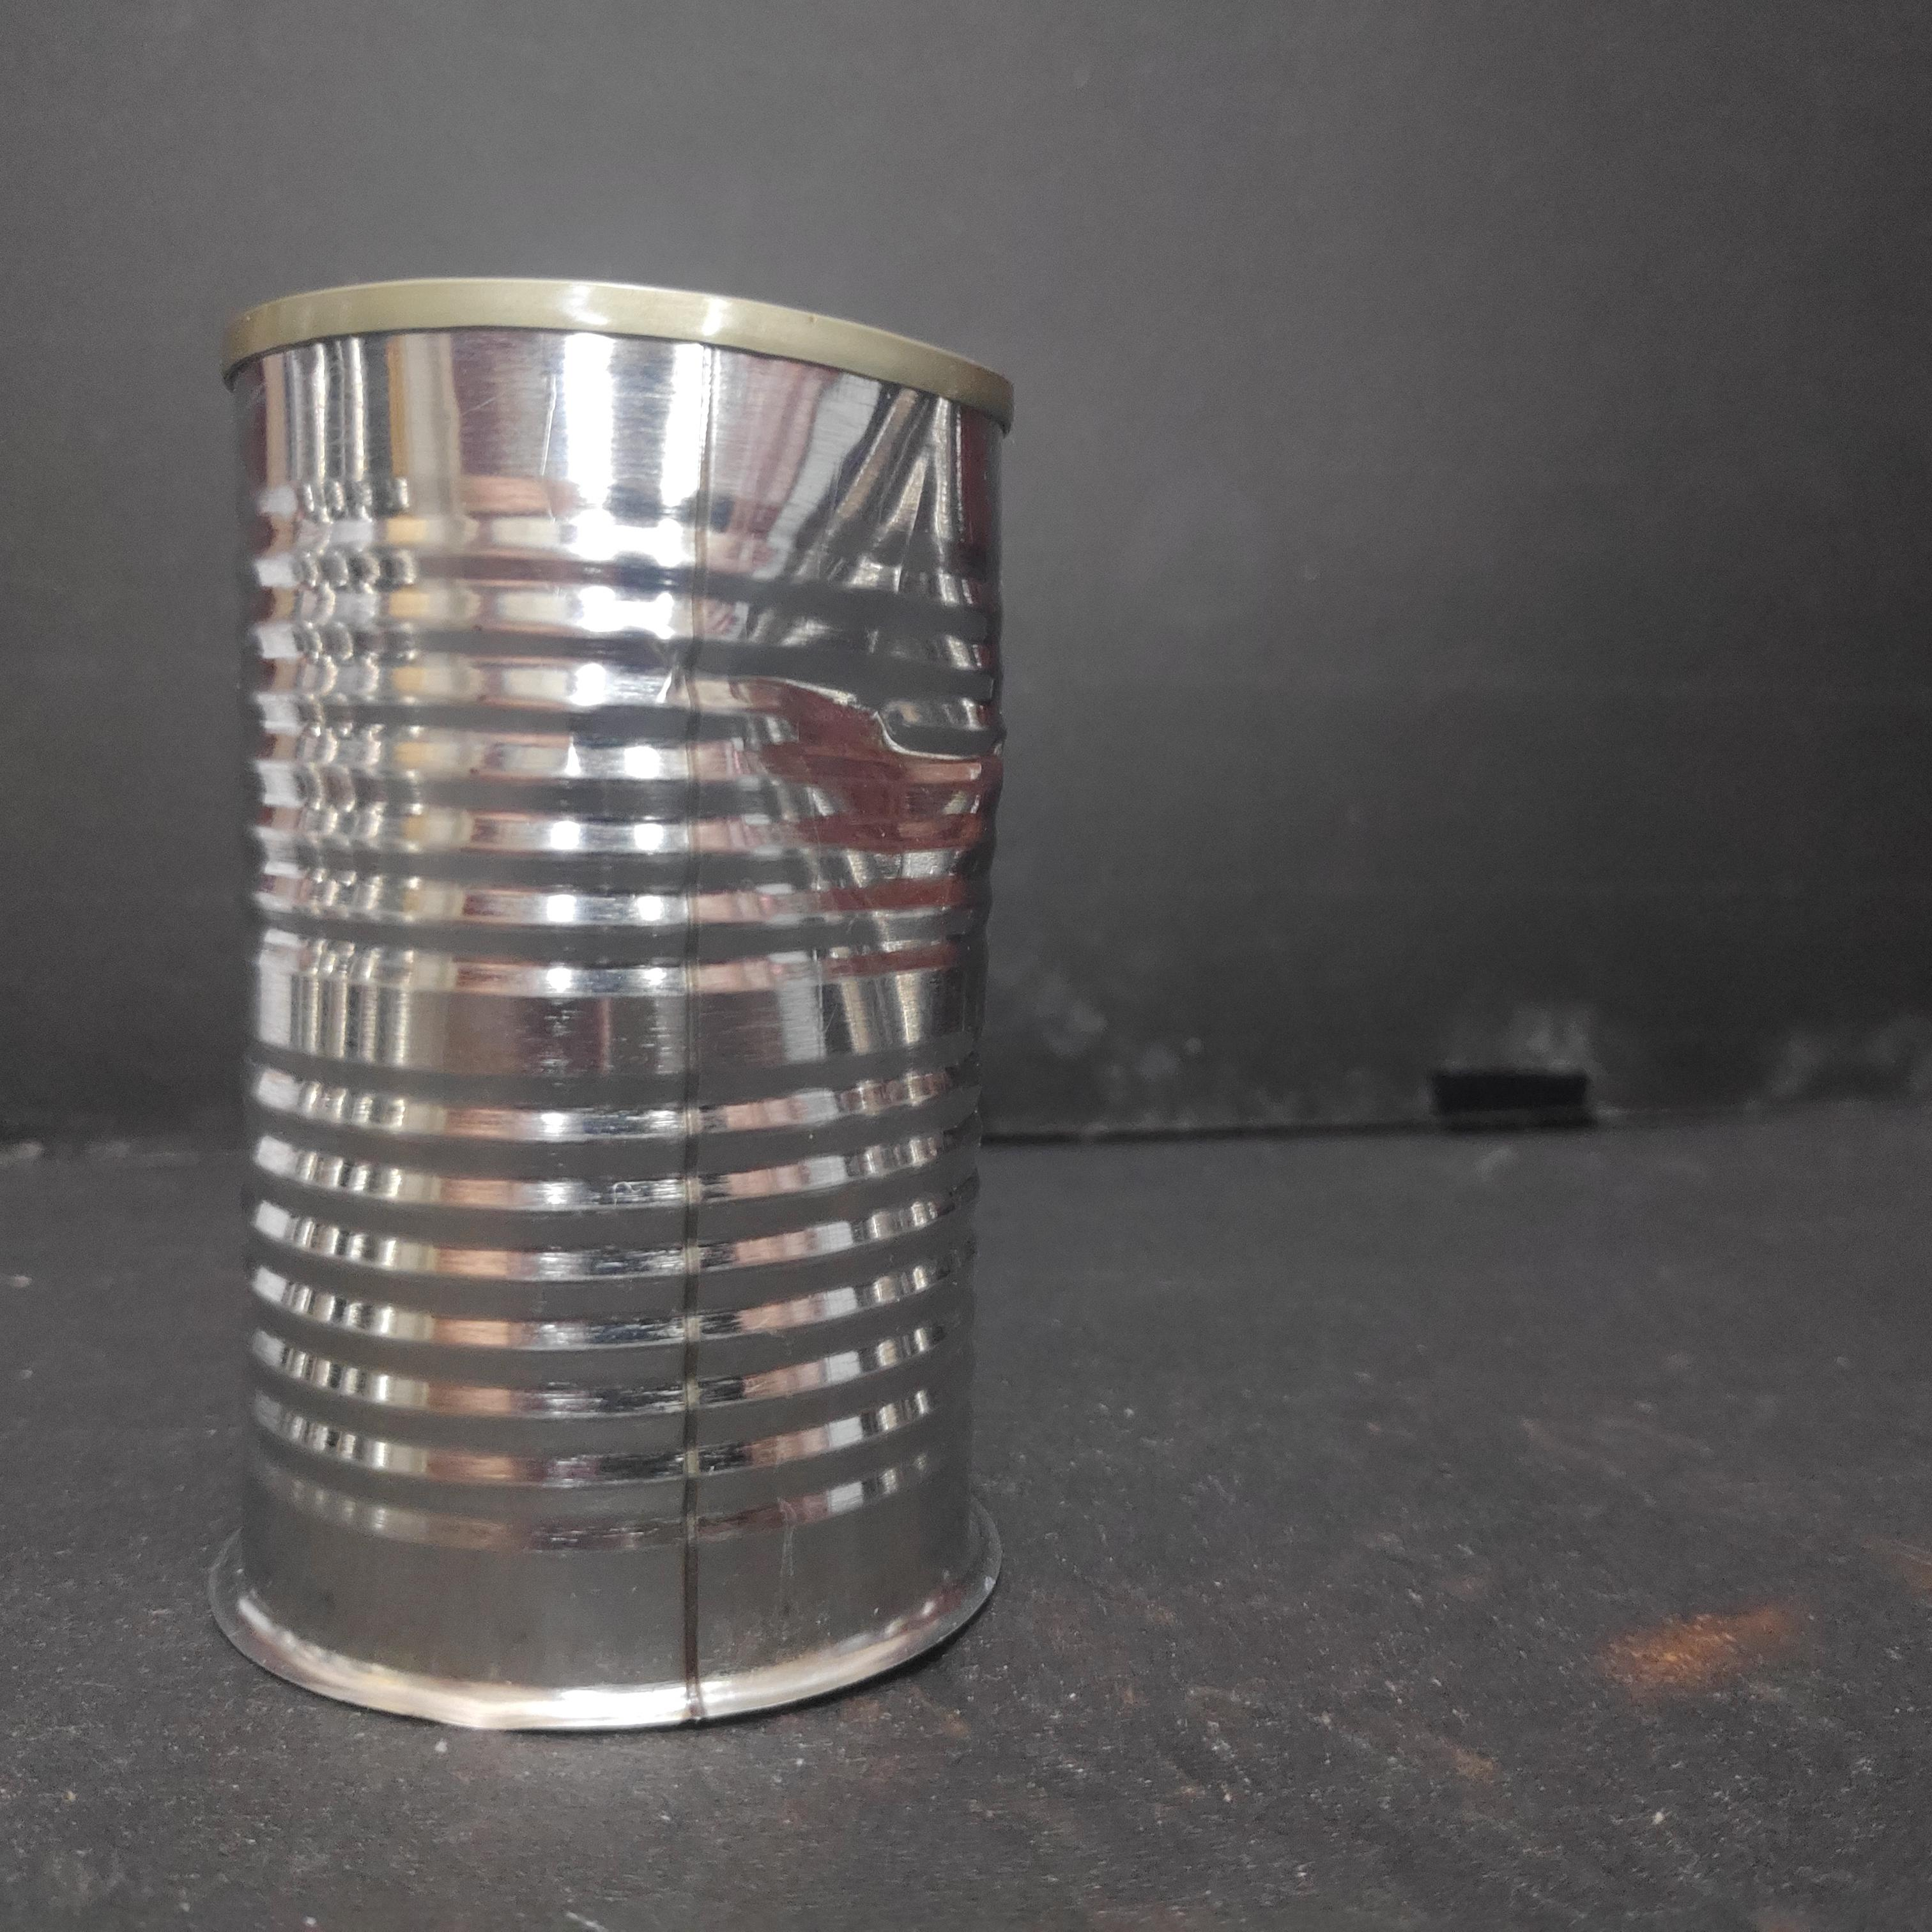Minor Defect: (212, 265, 1023, 1743)
